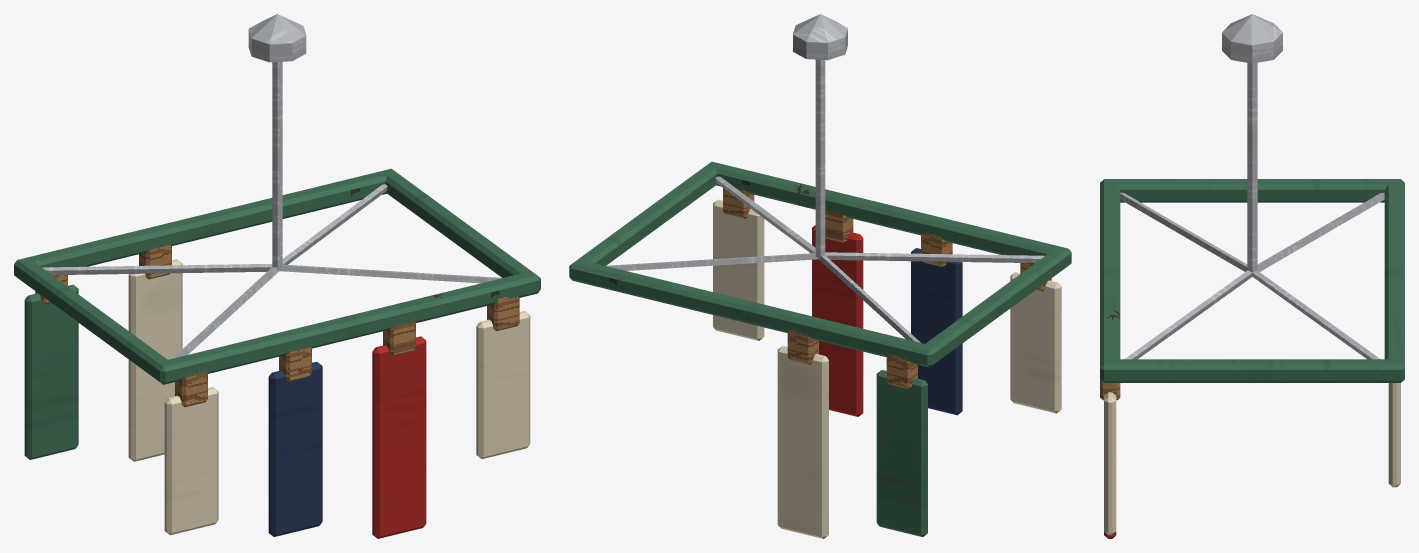
The model's file is pinch_hanger.glb.
The picture shows the model from 3 angles, left to right: view 1: azimuth 30°, elevation 25°; view 2: azimuth 150°, elevation 25°; view 3: azimuth 270°, elevation 25°; orthographic projection. The views are drawn at different scales.
Visible parts, largest first — view 1: p; view 2: p; view 3: p.
Boxes of the visible parts, x1,y1,x2,y2 form: p: (14,14,540,538); p: (569,14,1071,538); p: (1100,14,1404,538).
Bounding box in the file's own units: 0.44 × 0.53 × 0.3.
6 materials, 6 textured.
